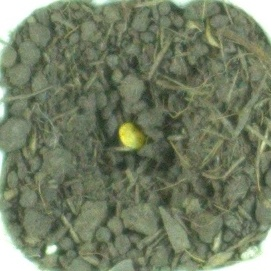chilli seed: (117, 121, 148, 150)
